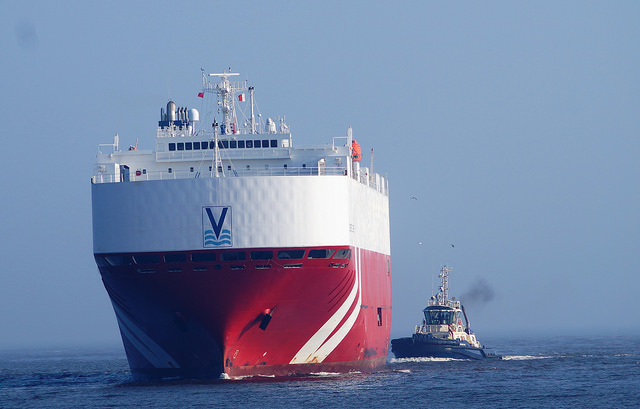PCC: (88, 68, 392, 375)
tug_boat: (392, 263, 507, 363)
